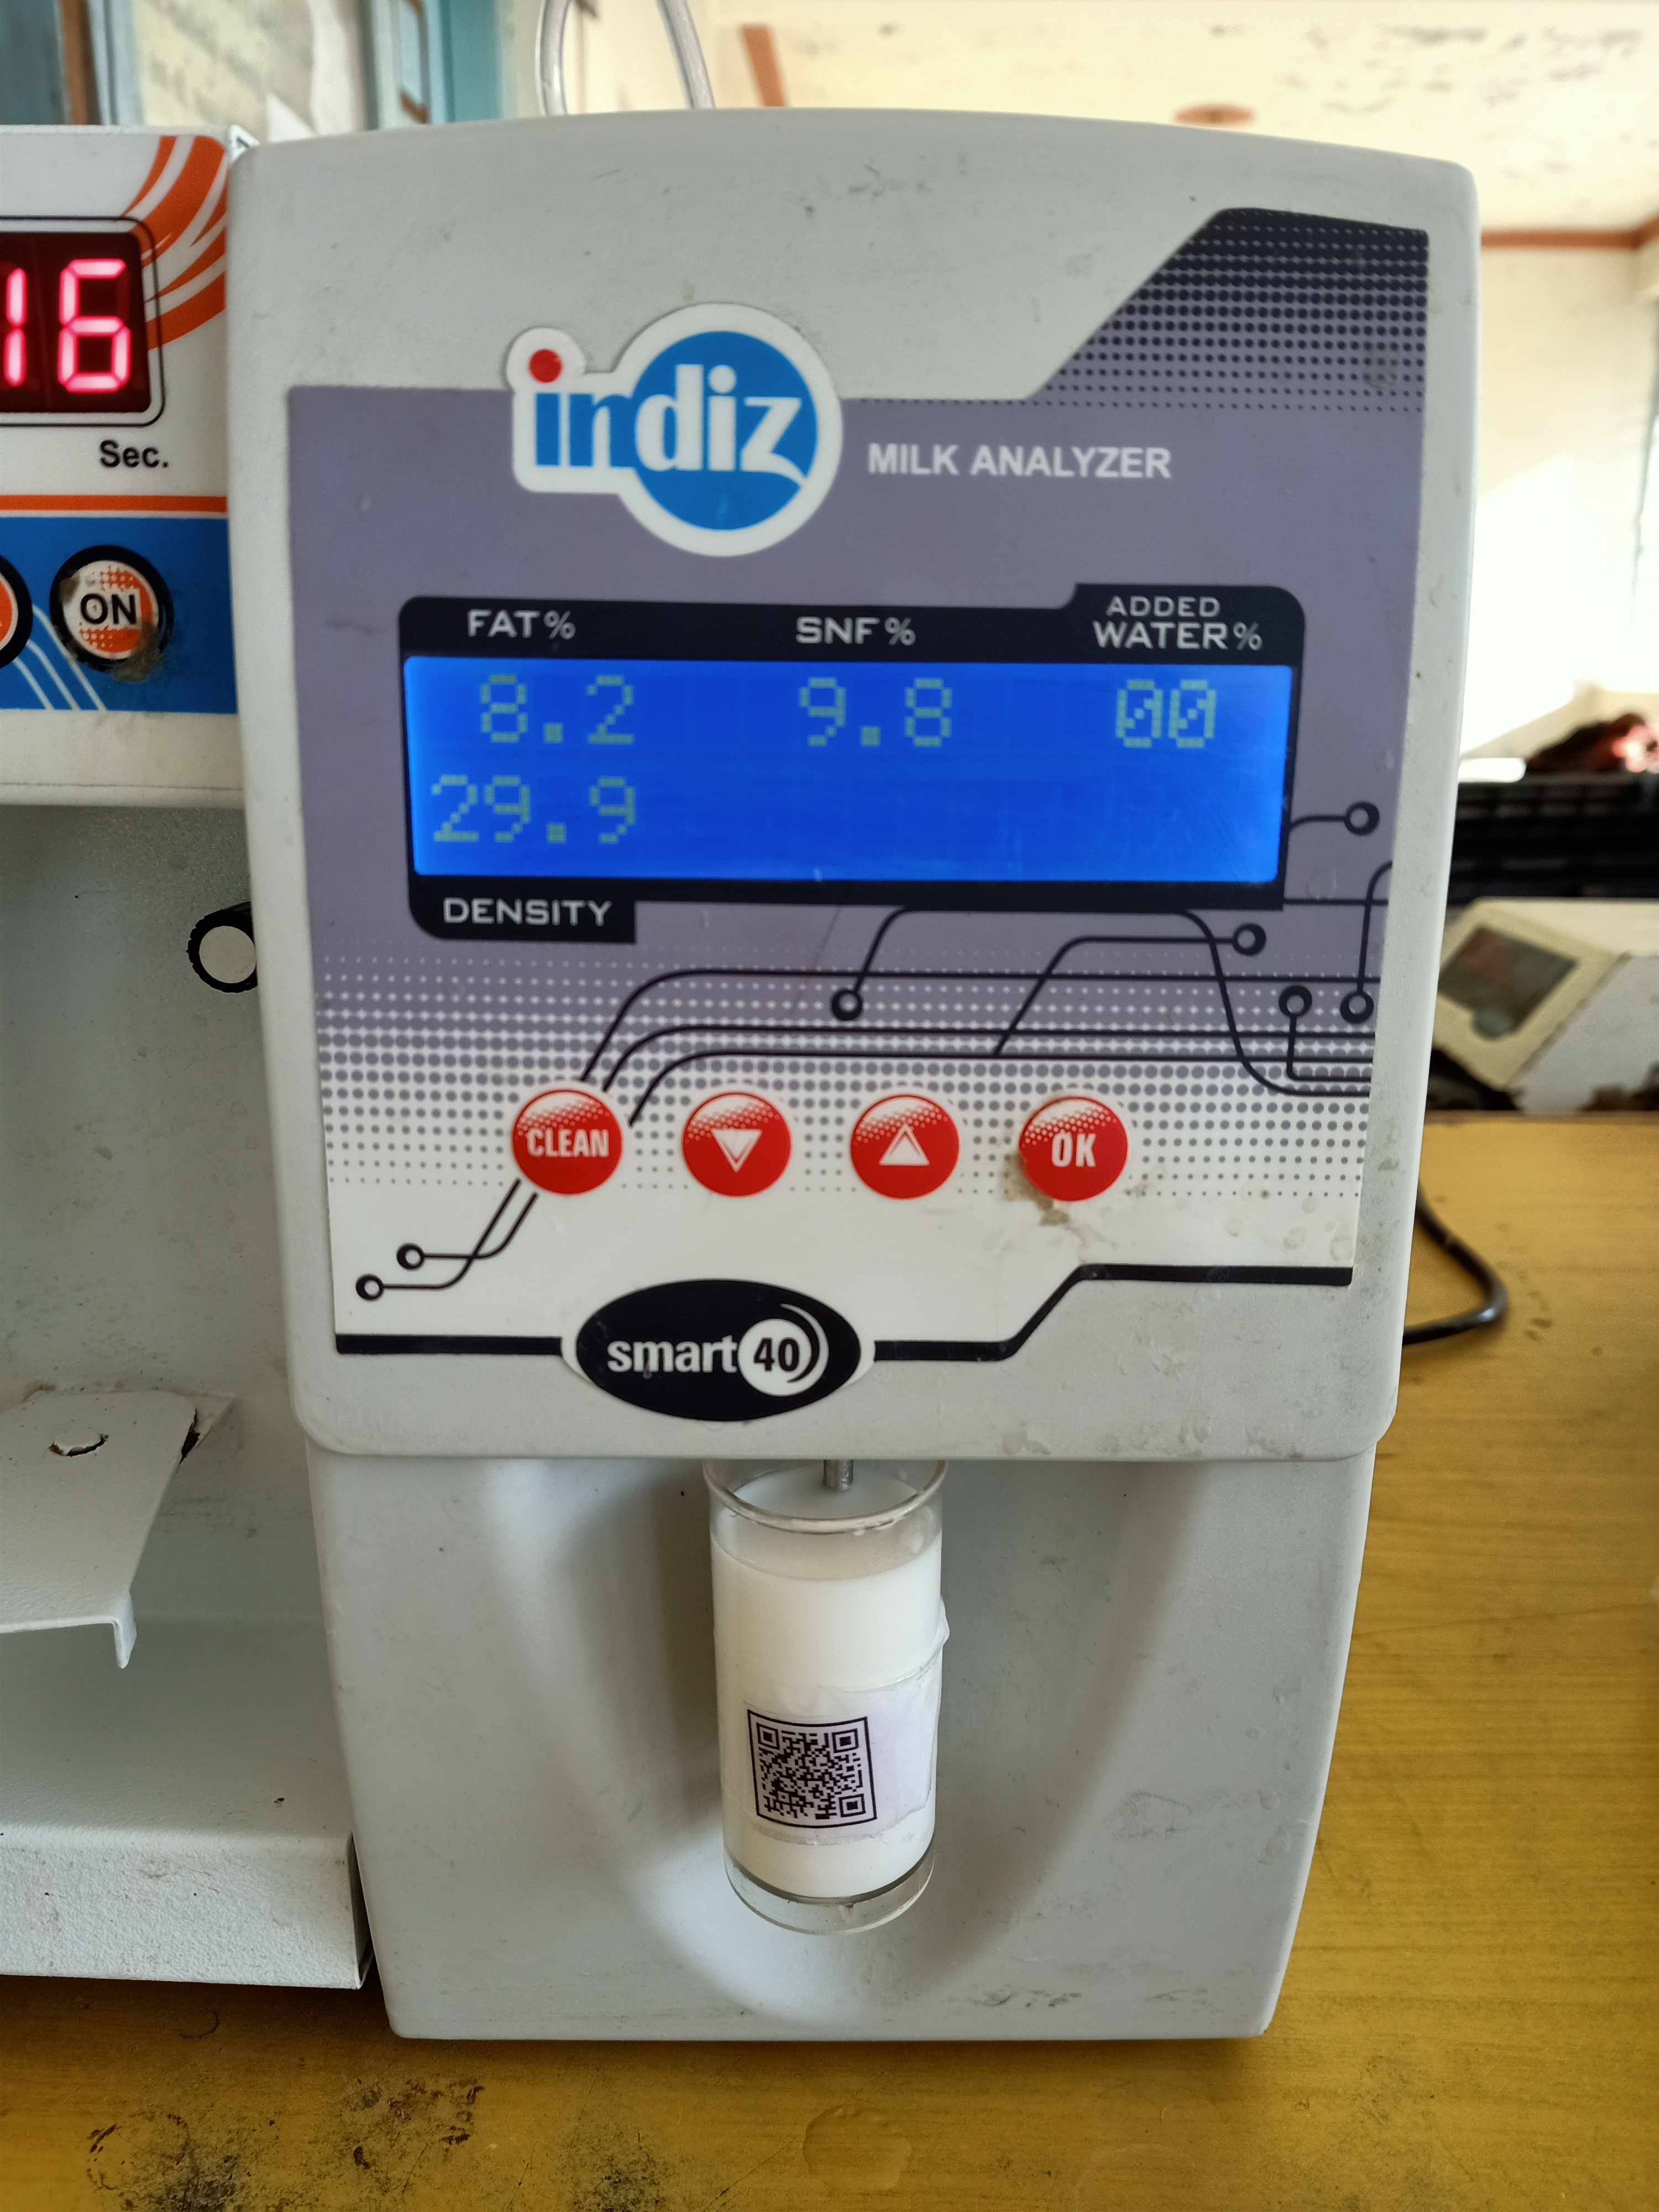lcd: (396, 566, 1312, 996)
qr: (742, 1703, 884, 1853)
